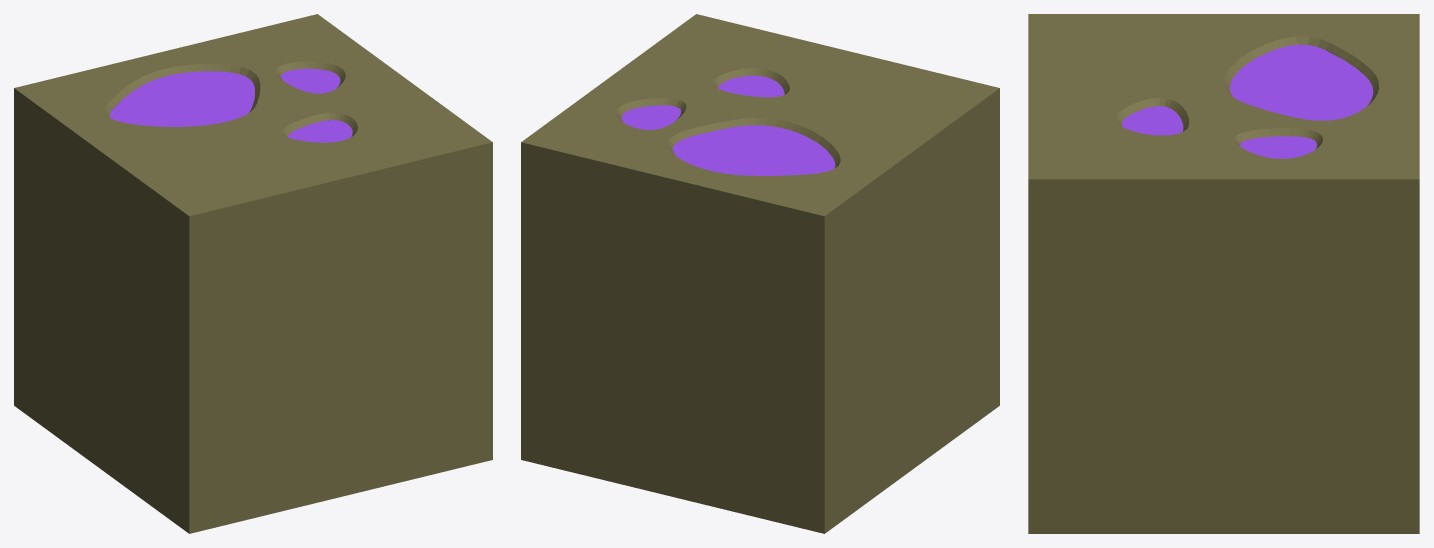
Rendered from tile_toxic_1_01.fbx.
3 views of the same model, side by side, from view 1: azimuth 30°, elevation 25°; view 2: azimuth 150°, elevation 25°; view 3: azimuth 270°, elevation 25° (orthographic). The views are drawn at different scales.
Visible parts, largest first — view 1: tile_toxic_1_01; view 2: tile_toxic_1_01; view 3: tile_toxic_1_01.
Part boxes in pixels (x1,y1,x2,y2): tile_toxic_1_01: (14, 14, 492, 533); tile_toxic_1_01: (521, 14, 999, 533); tile_toxic_1_01: (1028, 14, 1419, 533).
Size of the model in its own units: 100 by 100 by 100.
